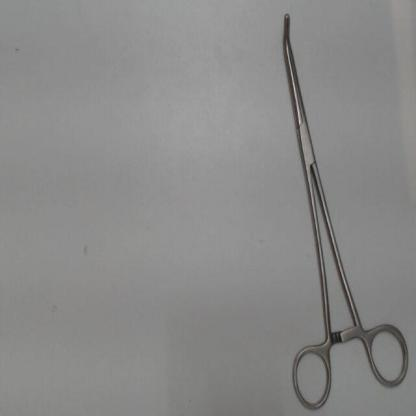Lahey Forceps: (278, 5, 412, 414)
